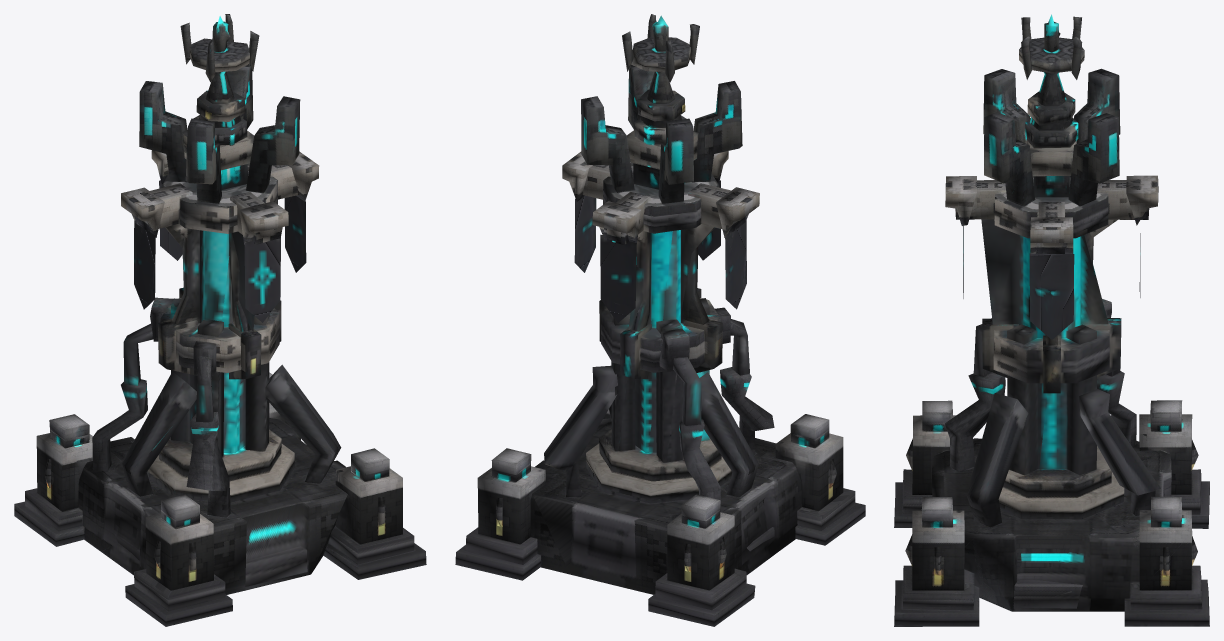
Rendered from hashimon_vibing_spire.glb.
3 views of the same model, side by side, from view 1: azimuth 30°, elevation 25°; view 2: azimuth 150°, elevation 25°; view 3: azimuth 270°, elevation 25° (orthographic). The views are drawn at different scales.
Size of the model in its own units: 0.5176 by 1 by 0.5234.
1 material, 1 textured.
